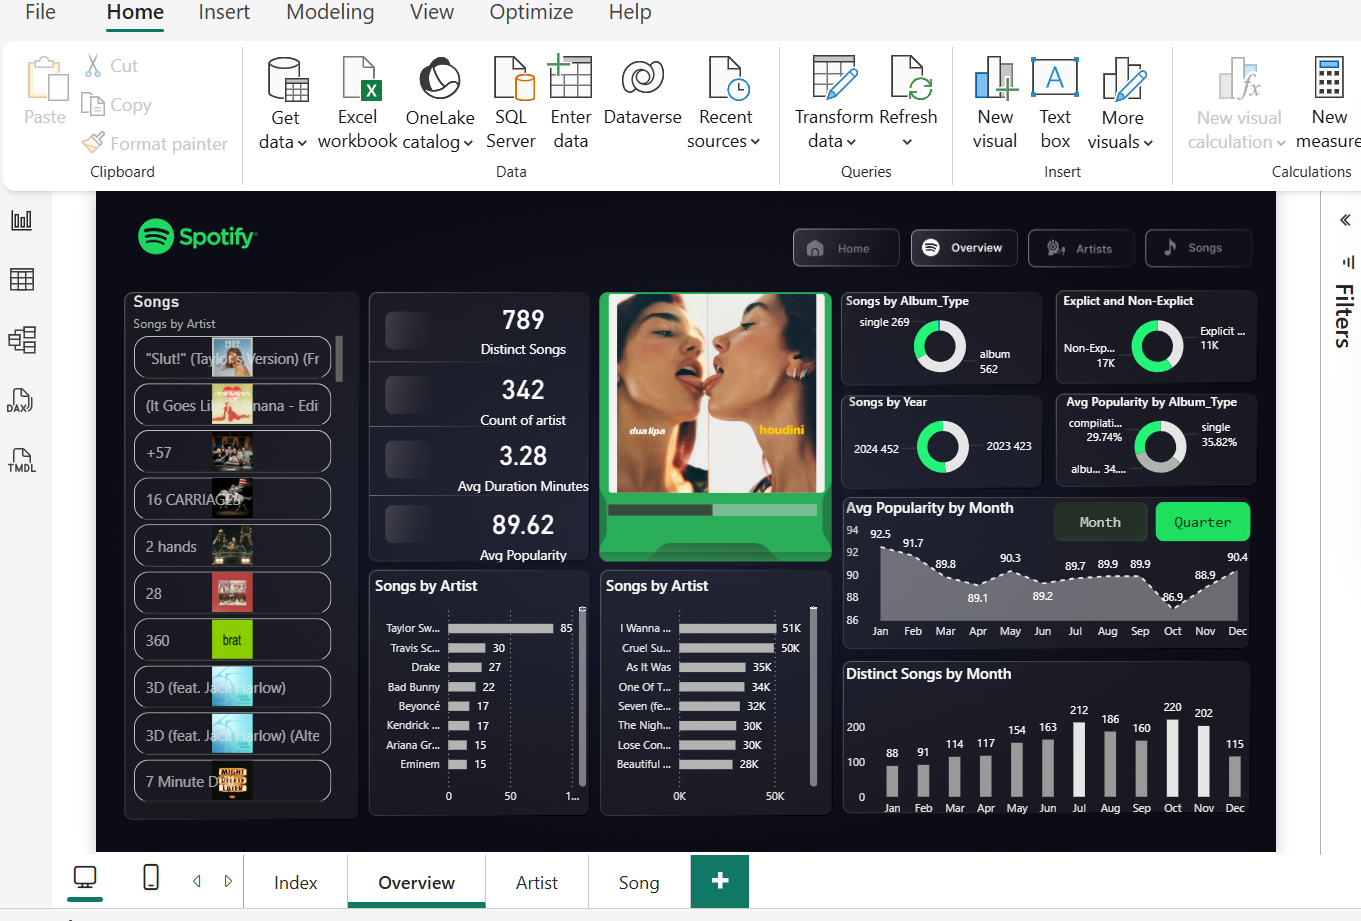

The page's visual inventory and layout, read from the dashboard file:
{"tool":"powerbi","page":{"name":"Overview","canvas":[1280,720],"ordinal":1},"visuals":[{"type":"clusteredBarChart","title":"Songs by Artist","fields":{"Category":["Top-50-world.artist"],"Y":["_Measures.Distinct Songs"]},"box":[298.4,416.1,238.7,258.1],"z":0},{"type":"clusteredBarChart","title":"Songs by Artist","fields":{"Category":["Top-50-world.song"],"Y":["Sum(Top-50-world.popularity)"]},"box":[548.4,416.1,238.7,258.1],"z":1000},{"type":"areaChart","fields":{"Y":["_Measures.Avg Popularity"],"Category":["Top-50-world.Month"]},"box":[808.1,332.3,448.4,162.9],"z":2000},{"type":"advancedSlicerVisual","fields":{"Values":["slicer.slicer"]},"box":[1032.3,332.3,224.2,53.2],"z":3000},{"type":"donutChart","title":"Songs by Album_Type","fields":{"Y":["_Measures.Distinct Songs"],"Category":["Top-50-world.album_type"]},"box":[808.1,109.7,212.9,100],"z":4000},{"type":"donutChart","title":"Explict and Non-Explict","fields":{"Y":["_Measures.Explicit Songs","_Measures.Non-Explicit Songs"]},"box":[1043.5,109.7,212.9,100],"z":5000},{"type":"donutChart","title":"Songs by Year ","fields":{"Category":["Top-50-world.date.Variation.Date Hierarchy.Year"],"Y":["_Measures.Distinct Songs"]},"box":[811.6,218.6,212.9,100],"z":6000},{"type":"donutChart","title":"Avg Popularity by Album_Type","fields":{"Y":["_Measures.Avg Popularity"],"Category":["Top-50-world.album_type"]},"box":[1047.1,218.6,212.9,100],"z":7000},{"type":"clusteredColumnChart","fields":{"Y":["_Measures.Distinct Songs"],"Category":["Top-50-world.Month"]},"box":[808.1,512.9,451.6,174.2],"z":8000},{"type":"card","fields":{"Values":["_Measures.Distinct Songs"]},"box":[375.8,109.7,174.2,75.8],"z":9000},{"type":"card","fields":{"Values":["Count(Top-50-world.artist)"]},"box":[375.8,185.5,174.2,75.8],"z":10000},{"type":"card","fields":{"Values":["_Measures.Avg Popularity"]},"box":[375.8,332.3,174.2,75.8],"z":11000},{"type":"card","fields":{"Values":["_Measures.Avg Duration Minutes"]},"box":[375.8,256.5,174.2,75.8],"z":12000},{"type":"shape","box":[59.7,169.4,174.2,150],"z":13000},{"type":"advancedSlicerVisual","title":"Songs","fields":{"Values":["Top-50-world.song"]},"box":[35.5,109.7,237.1,564.5],"z":14000},{"type":"cardVisual","fields":{"Data":["Min(Top-50-world.album_cover_url)"]},"box":[538.7,93.5,269.4,250],"z":15000},{"type":"hundredPercentStackedBarChart","fields":{"Y":["_Measures.Avg Popularity","Avg(Top-50-world.popularity)"]},"box":[550,309.7,237.1,66.1],"z":16000},{"type":"shape","box":[537.1,106.5,274.2,285.5],"z":17000},{"type":"actionButton","box":[754.7,37.4,115.5,43.9],"z":18000},{"type":"actionButton","box":[883.2,37.4,113.9,43.9],"z":19000},{"type":"actionButton","box":[1010.1,37.4,113.9,43.9],"z":20000},{"type":"actionButton","box":[1141.8,37.4,115.5,43.9],"z":21000}]}

Visuals, with their boxes on the page's 1280x720 design canvas (x1, y1, x2, y2). These are canvas units, not pixel positions in the 1361x921 screenshot, which may show the page scaled, cropped or inside an application window:
"Songs by Artist" clusteredBarChart: x1=298 y1=416 x2=537 y2=674
"Songs by Artist" clusteredBarChart: x1=548 y1=416 x2=787 y2=674
areaChart - _Measures.Avg Popularity x Top-50-world.Month: x1=808 y1=332 x2=1256 y2=495
advancedSlicerVisual - slicer.slicer: x1=1032 y1=332 x2=1256 y2=386
"Songs by Album_Type" donutChart: x1=808 y1=110 x2=1021 y2=210
"Explict and Non-Explict" donutChart: x1=1044 y1=110 x2=1256 y2=210
"Songs by Year " donutChart: x1=812 y1=219 x2=1024 y2=319
"Avg Popularity by Album_Type" donutChart: x1=1047 y1=219 x2=1260 y2=319
clusteredColumnChart - _Measures.Distinct Songs x Top-50-world.Month: x1=808 y1=513 x2=1260 y2=687
card - _Measures.Distinct Songs: x1=376 y1=110 x2=550 y2=186
card - Count(Top-50-world.artist): x1=376 y1=186 x2=550 y2=261
card - _Measures.Avg Popularity: x1=376 y1=332 x2=550 y2=408
card - _Measures.Avg Duration Minutes: x1=376 y1=256 x2=550 y2=332
shape: x1=60 y1=169 x2=234 y2=319
"Songs" advancedSlicerVisual: x1=36 y1=110 x2=273 y2=674
cardVisual - Min(Top-50-world.album_cover_url): x1=539 y1=94 x2=808 y2=344
hundredPercentStackedBarChart - _Measures.Avg Popularity x Avg(Top-50-world.popularity): x1=550 y1=310 x2=787 y2=376
shape: x1=537 y1=106 x2=811 y2=392
actionButton: x1=755 y1=37 x2=870 y2=81
actionButton: x1=883 y1=37 x2=997 y2=81
actionButton: x1=1010 y1=37 x2=1124 y2=81
actionButton: x1=1142 y1=37 x2=1257 y2=81
